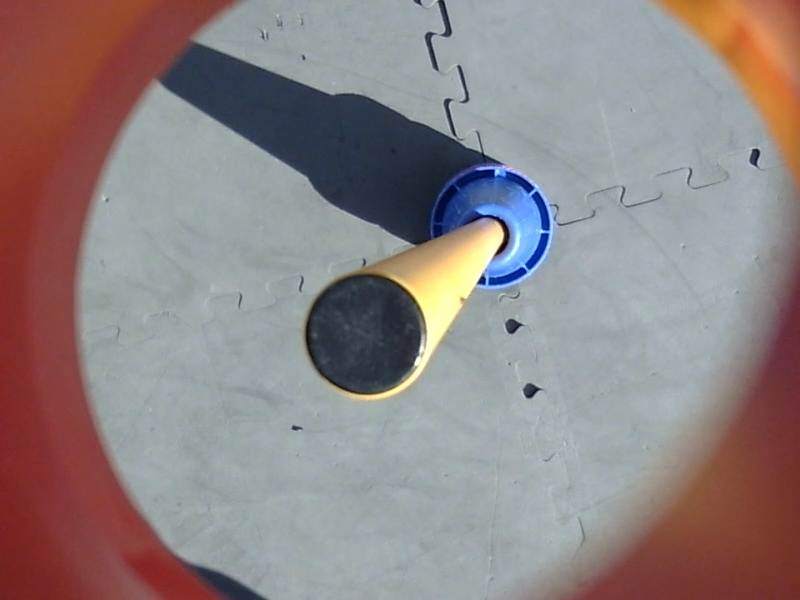tip: (298, 266, 437, 407)
